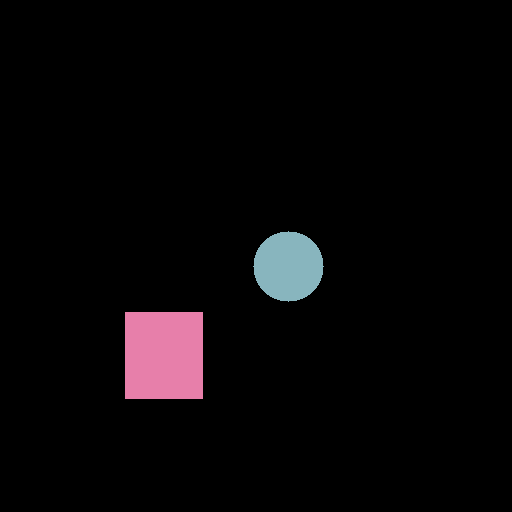circle: (253, 231, 323, 301)
rectangle: (125, 312, 202, 398)
